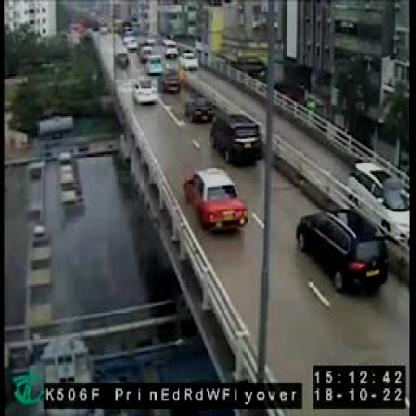Car: (294, 206, 388, 292), (348, 158, 410, 240), (184, 168, 248, 233), (210, 112, 263, 169), (183, 94, 216, 126), (133, 78, 159, 106), (162, 66, 181, 94), (179, 48, 199, 72), (145, 53, 163, 76), (114, 48, 130, 69), (162, 42, 179, 60)
